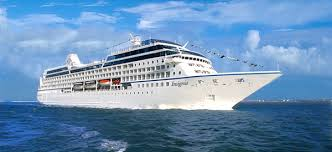tau_dansu: (16, 41, 288, 114)
